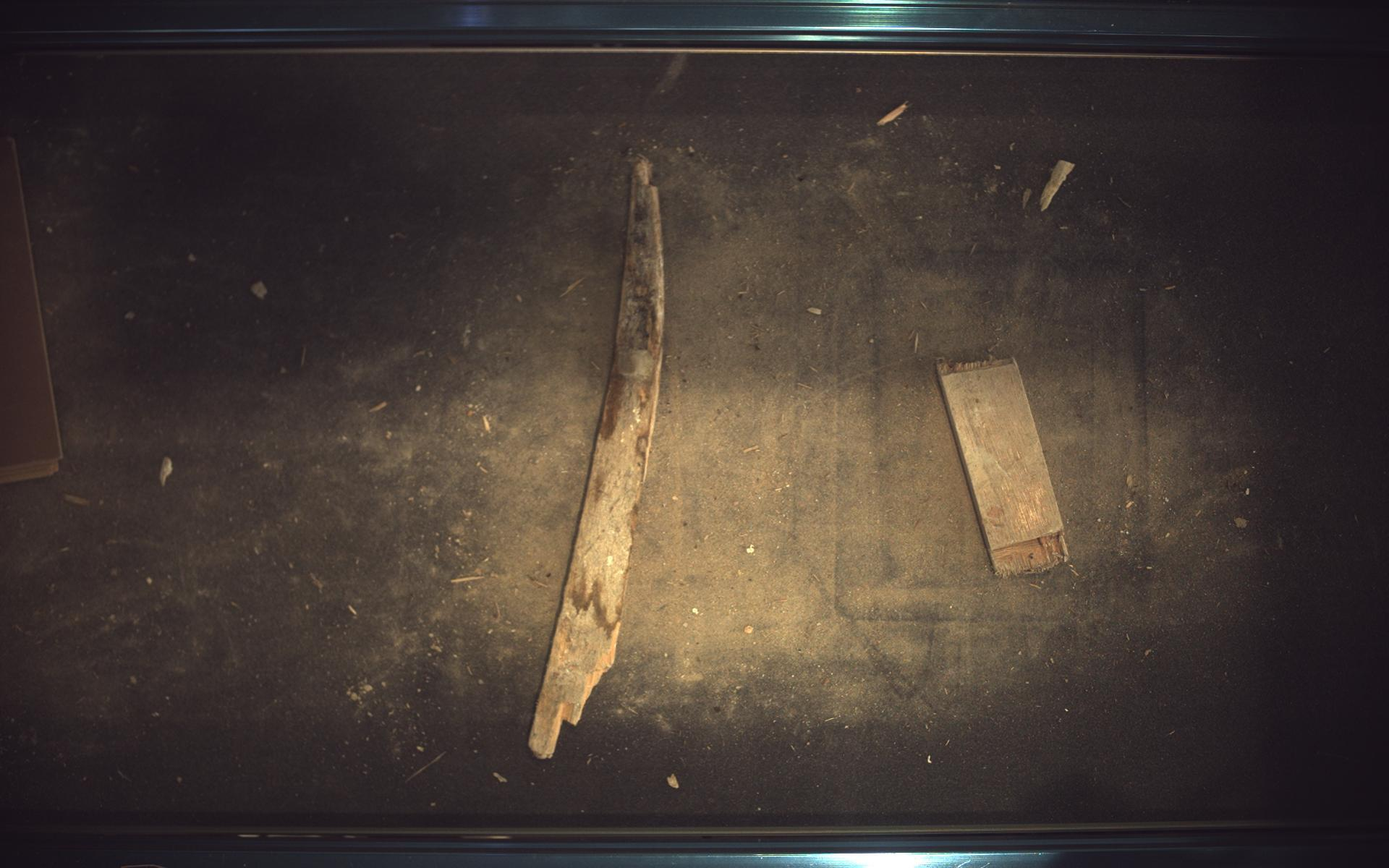wood: (939, 357, 1071, 576), (1, 135, 61, 484)
